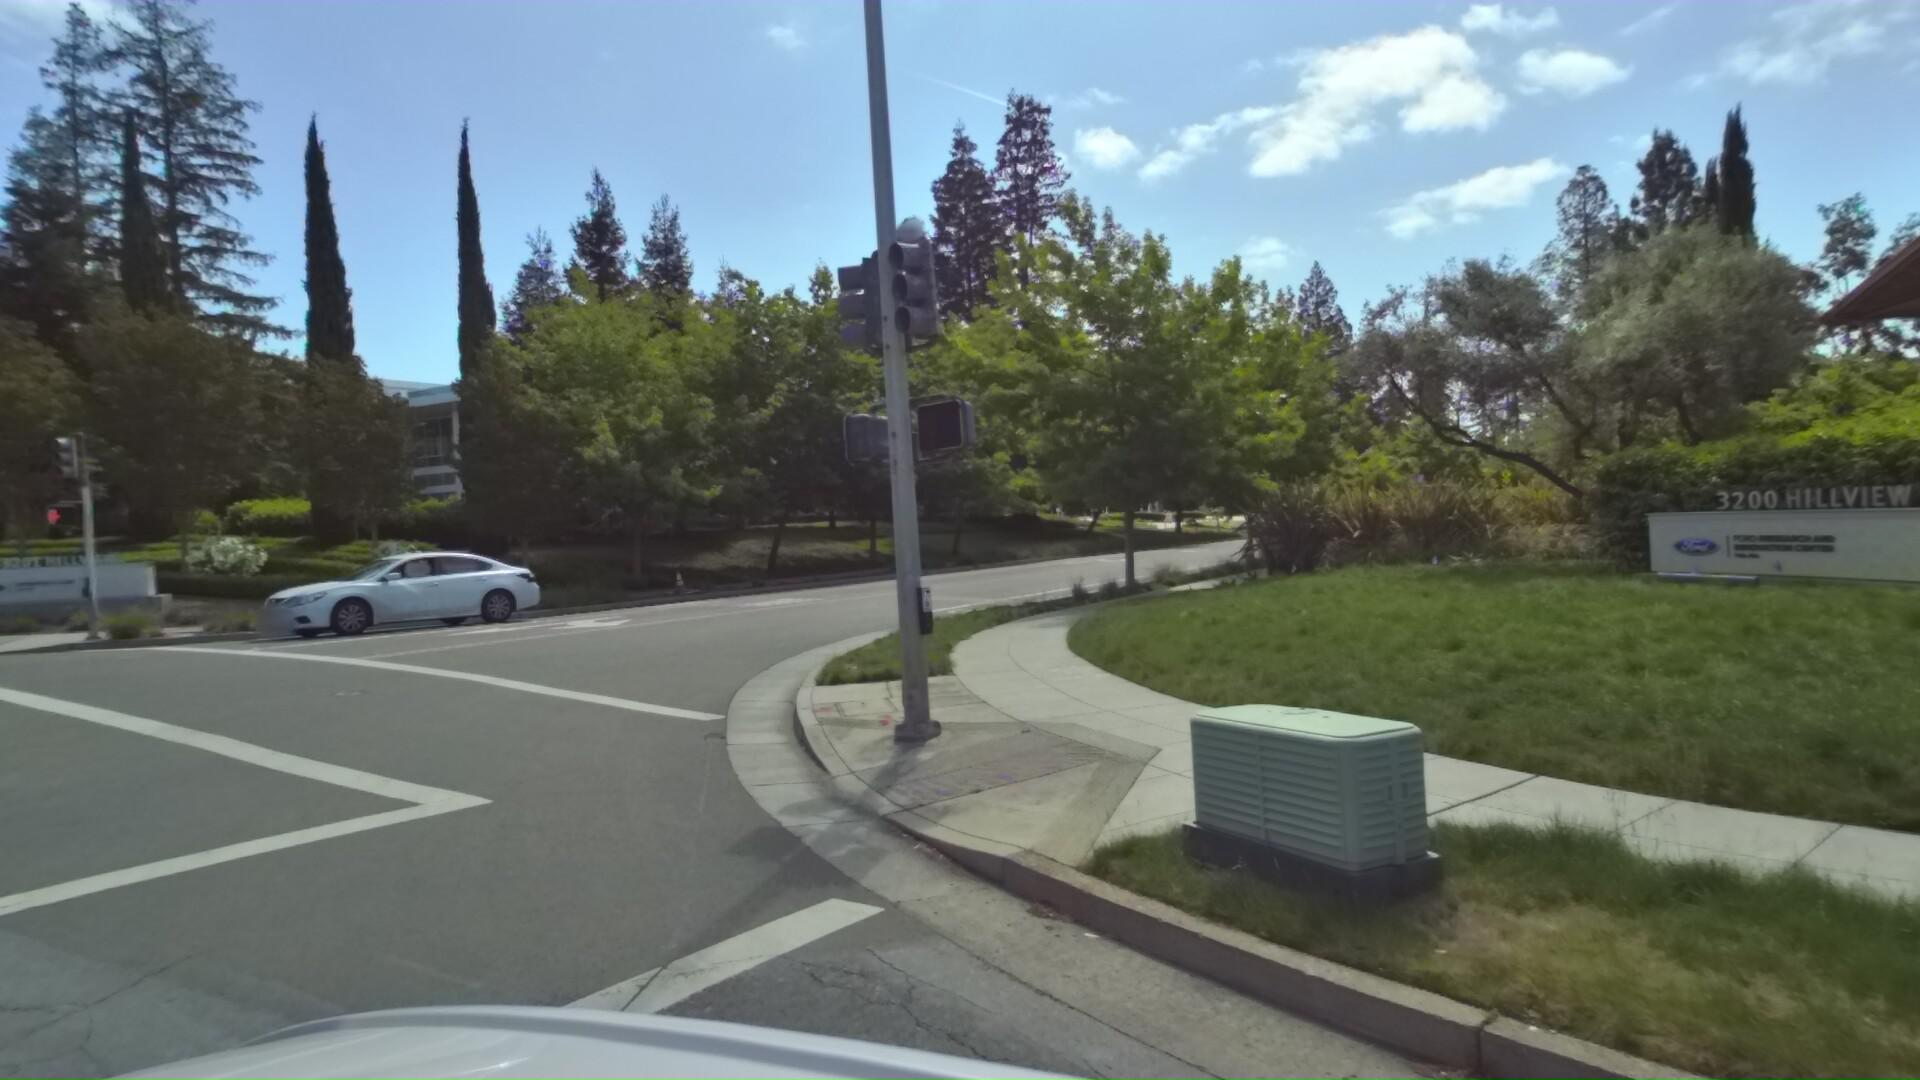car: (239, 530, 546, 640)
